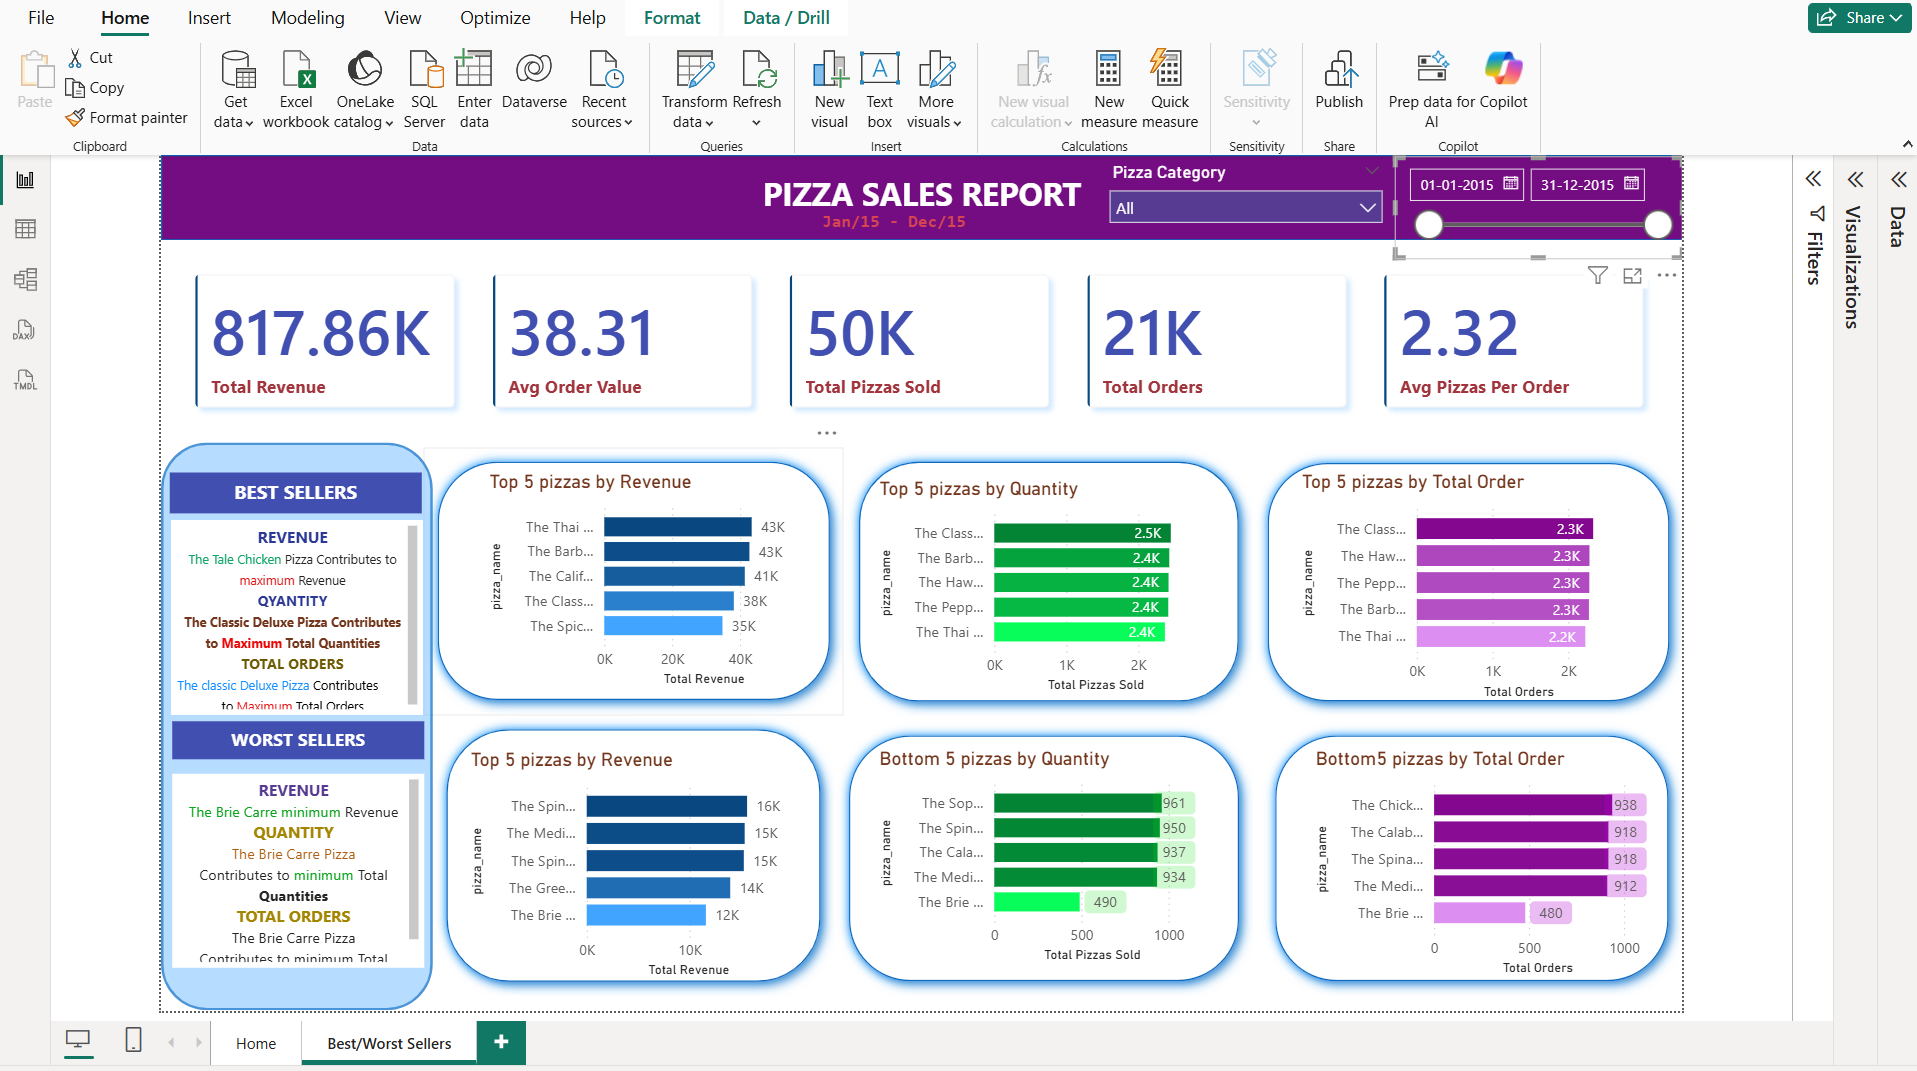

This screenshot's page, from the dashboard's own definition file:
{"tool":"powerbi","page":{"name":"Best/Worst Sellers","canvas":[1280,720],"ordinal":1},"visuals":[{"type":"shape","box":[0,0,1280.4,71.8],"z":0},{"type":"textbox","box":[346.7,9.8,586.1,62.4],"z":1000},{"type":"textbox","box":[470.8,40.8,291.2,34.7],"z":2000},{"type":"slicer","fields":{"Values":["pizza_db pizza_sales.pizza_category"]},"box":[787.6,0.9,250.2,79],"z":3000},{"type":"slicer","fields":{"Values":["pizza_db pizza_sales.order_date"]},"box":[1037.8,1,242.3,86],"z":4000},{"type":"cardVisual","fields":{"Data":["pizza_db pizza_sales.Total Revenue","pizza_db pizza_sales.Avg Order Value","pizza_db pizza_sales.Total Pizzas Sold","pizza_db pizza_sales.Total Orders","pizza_db pizza_sales.Avg Pizzas Per Order"]},"box":[0,71.8,1280.4,170.2],"z":5000},{"type":"shape","box":[220.8,246.5,353.8,224.3],"z":6000},{"type":"shape","box":[924.8,476.2,354.7,230.5],"z":7000},{"type":"shape","box":[918.6,247.4,361.8,224.3],"z":8000},{"type":"shape","box":[574.8,246.1,343.3,225.7],"z":9000},{"type":"shape","box":[566.6,476.2,352,230.5],"z":10000},{"type":"shape","box":[228.6,470.8,338.5,236.4],"z":11000},{"type":"barChart","title":"Top 5 pizzas by Revenue","fields":{"Category":["pizza_db pizza_sales.pizza_name"],"Y":["pizza_db pizza_sales.Total Revenue"]},"box":[271.4,266.5,285,185.8],"z":12000},{"type":"barChart","title":"Top 5 pizzas by Revenue","fields":{"Category":["pizza_db pizza_sales.pizza_name"],"Y":["pizza_db pizza_sales.Total Revenue"]},"box":[255.8,499.9,289.8,197.4],"z":13000},{"type":"barChart","title":"Top 5 pizzas by Quantity","fields":{"Category":["pizza_db pizza_sales.pizza_name"],"Y":["pizza_db pizza_sales.Total Pizzas Sold"]},"box":[599.1,271.4,285,185.8],"z":14000},{"type":"barChart","title":"Bottom 5 pizzas by Quantity","fields":{"Category":["pizza_db pizza_sales.pizza_name"],"Y":["pizza_db pizza_sales.Total Pizzas Sold"]},"box":[599.1,498,285,185.8],"z":15000},{"type":"barChart","title":"Top 5 pizzas by Total Order","fields":{"Category":["pizza_db pizza_sales.pizza_name"],"Y":["pizza_db pizza_sales.Total Orders"]},"box":[955.1,266.5,286,196.5],"z":16000},{"type":"barChart","title":"Bottom5 pizzas by Total Order","fields":{"Category":["pizza_db pizza_sales.pizza_name"],"Y":["pizza_db pizza_sales.Total Orders"]},"box":[965.8,498,297.6,196.5],"z":17000},{"type":"shape","box":[0,242.2,228.6,477.6],"z":18000},{"type":"textbox","box":[7.8,267.5,212,34],"z":19000},{"type":"textbox","box":[8.8,307.4,212,164.4],"z":20000},{"type":"textbox","box":[9.7,476.6,212,32.1],"z":21000},{"type":"textbox","box":[9.7,520.4,212,163.4],"z":22000}]}

Visuals, with their boxes on the page's 1280x720 design canvas (x1, y1, x2, y2). These are canvas units, not pixel positions in the 1917x1071 screenshot, which may show the page scaled, cropped or inside an application window:
shape: pyautogui.locateOnScreen(0, 0, 1280, 72)
textbox: pyautogui.locateOnScreen(347, 10, 933, 72)
textbox: pyautogui.locateOnScreen(471, 41, 762, 76)
slicer - pizza_db pizza_sales.pizza_category: pyautogui.locateOnScreen(788, 1, 1038, 80)
slicer - pizza_db pizza_sales.order_date: pyautogui.locateOnScreen(1038, 1, 1280, 87)
cardVisual - pizza_db pizza_sales.Total Revenue x pizza_db pizza_sales.Avg Order Value: pyautogui.locateOnScreen(0, 72, 1280, 242)
shape: pyautogui.locateOnScreen(221, 246, 575, 471)
shape: pyautogui.locateOnScreen(925, 476, 1280, 707)
shape: pyautogui.locateOnScreen(919, 247, 1280, 472)
shape: pyautogui.locateOnScreen(575, 246, 918, 472)
shape: pyautogui.locateOnScreen(567, 476, 919, 707)
shape: pyautogui.locateOnScreen(229, 471, 567, 707)
"Top 5 pizzas by Revenue" barChart: pyautogui.locateOnScreen(271, 266, 556, 452)
"Top 5 pizzas by Revenue" barChart: pyautogui.locateOnScreen(256, 500, 546, 697)
"Top 5 pizzas by Quantity" barChart: pyautogui.locateOnScreen(599, 271, 884, 457)
"Bottom 5 pizzas by Quantity" barChart: pyautogui.locateOnScreen(599, 498, 884, 684)
"Top 5 pizzas by Total Order" barChart: pyautogui.locateOnScreen(955, 266, 1241, 463)
"Bottom5 pizzas by Total Order" barChart: pyautogui.locateOnScreen(966, 498, 1263, 694)
shape: pyautogui.locateOnScreen(0, 242, 229, 720)
textbox: pyautogui.locateOnScreen(8, 268, 220, 302)
textbox: pyautogui.locateOnScreen(9, 307, 221, 472)
textbox: pyautogui.locateOnScreen(10, 477, 222, 509)
textbox: pyautogui.locateOnScreen(10, 520, 222, 684)
